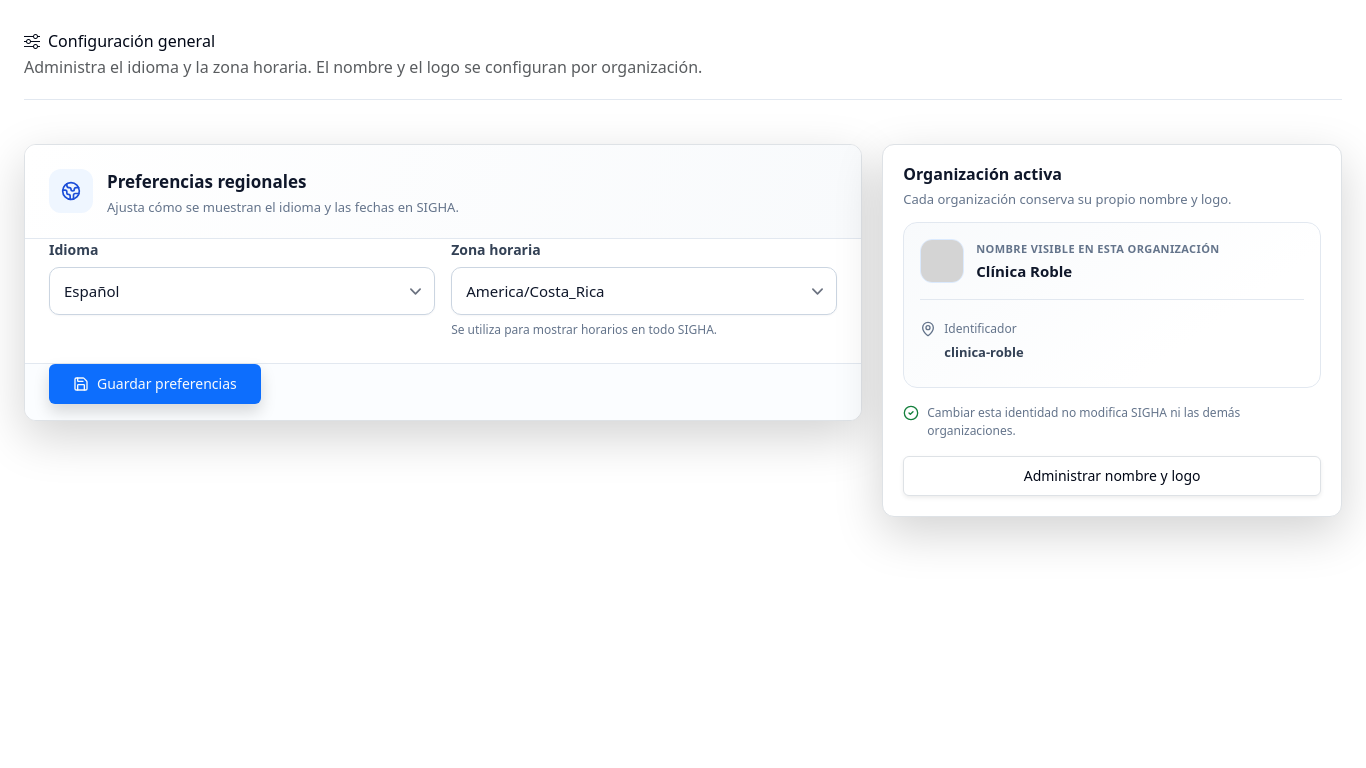
Test: GeneralSettingsPage › guarda idioma/zona horaria y conserva la identidad global sin aplicarla al espacio activo
Expected: the heading "Organización activa" is shown, [903,163,1062,185]
Select "UTC" in the dropdown labelled "Zona horaria" at (644, 291), box [451,267,837,315]
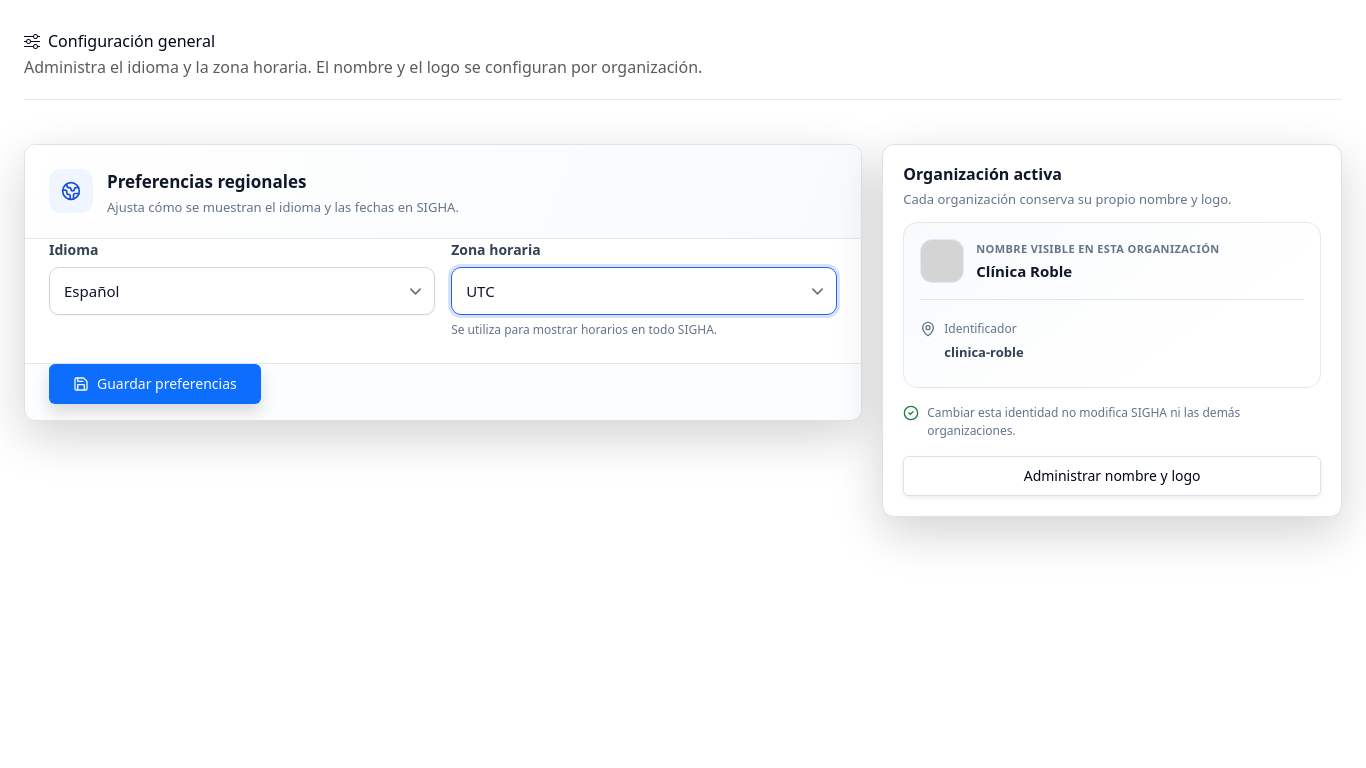
Click the button "Guardar preferencias" at (155, 384), box [49,364,261,404]
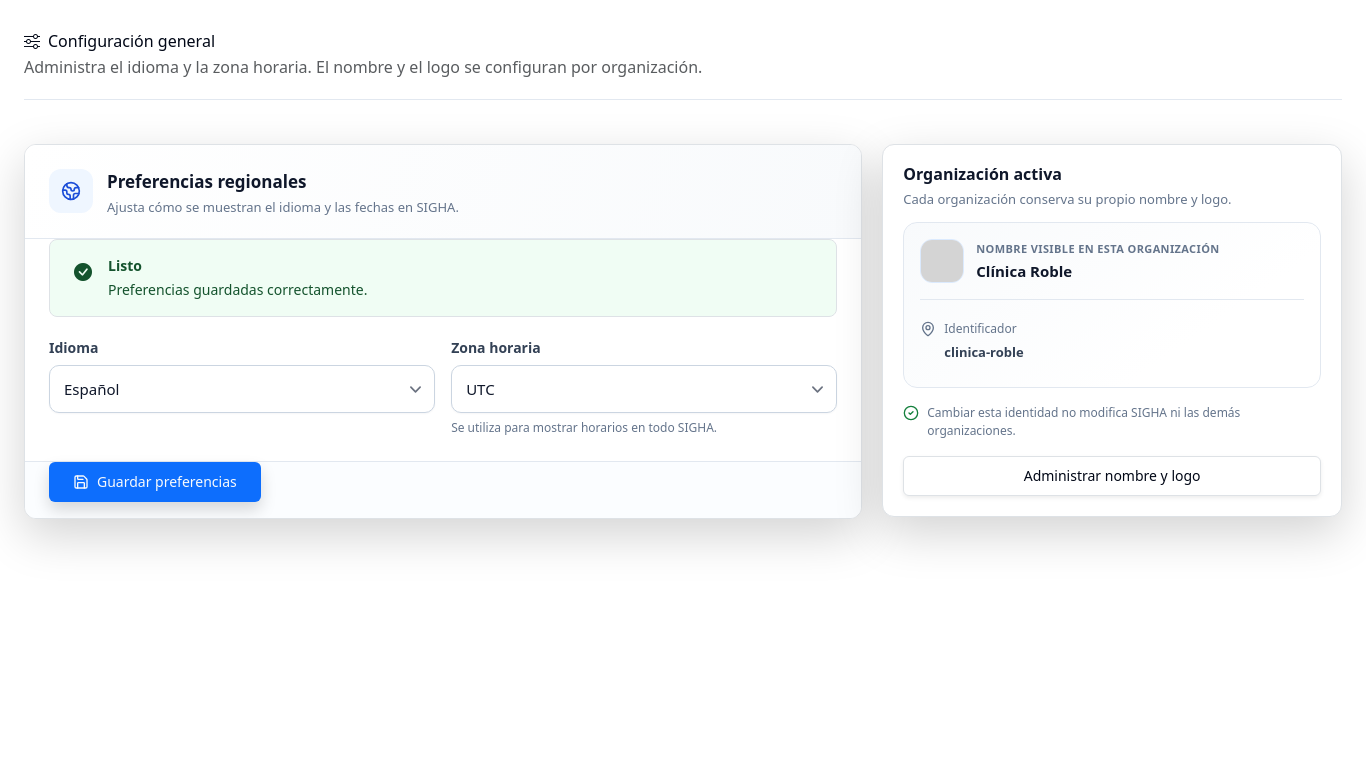
Now the text "Preferencias guardadas correctamente." is shown, box [108,280,367,299]
